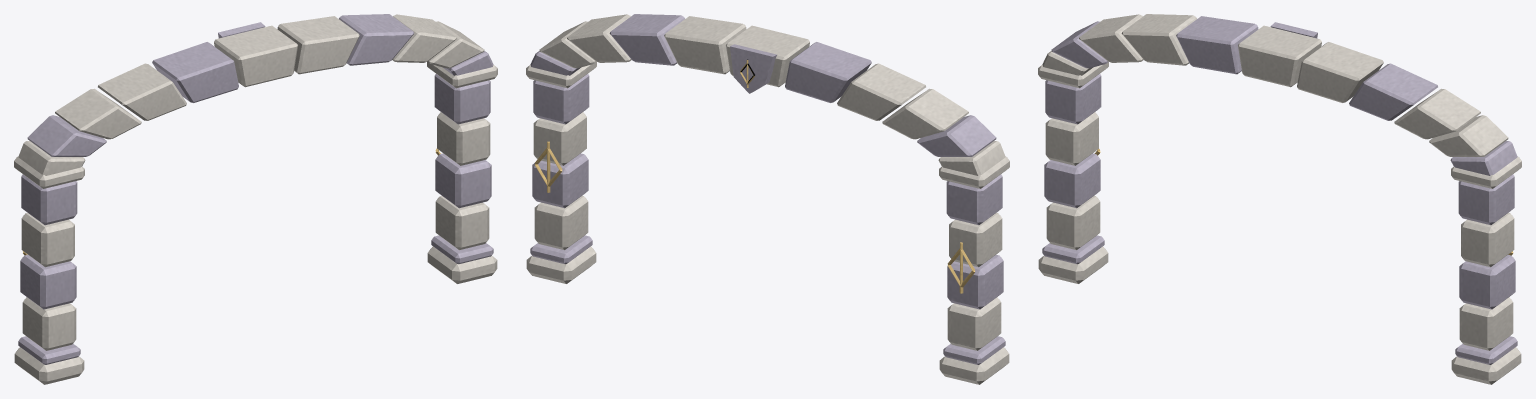
File: spawn_arch.glb
3 renders of one model, left to right at view 1: azimuth 30°, elevation 25°; view 2: azimuth 150°, elevation 25°; view 3: azimuth 330°, elevation 25°, orthographic.
Visible parts, largest first — view 1: ArchWedge.005, ArchWedge.006, ArchWedge.004, ArchWedge.007, ArchWedge.003, ArchWedge.008, HandCutPier.005, HandCutPier.001, HandCutPier.004, HandCutPier.002, HandCutPier, HandCutPier.006 (+13 smaller); view 2: ArchWedge.006, ArchWedge.004, ArchWedge.007, ArchWedge.003, ArchWedge.008, HandCutPier.004, HandCutPier, HandCutPier.001, HandCutPier.005, ArchWedge.005, HandCutPier.002, HandCutPier.003 (+14 smaller); view 3: ArchWedge.005, ArchWedge.004, ArchWedge.006, ArchWedge.003, ArchWedge.007, ArchWedge.002, HandCutPier.001, HandCutPier.005, HandCutPier, HandCutPier.006, HandCutPier.004, HandCutPier.002 (+13 smaller).
Part boxes in pixels (box(x1,y1,x2,y2)): ArchWedge.005: box(214, 25, 297, 87); ArchWedge.006: box(152, 42, 238, 102); ArchWedge.004: box(277, 16, 359, 74); ArchWedge.007: box(98, 63, 186, 120); ArchWedge.003: box(339, 14, 414, 65); ArchWedge.008: box(55, 88, 141, 139); HandCutPier.005: box(435, 153, 491, 208); HandCutPier.001: box(20, 254, 76, 309); HandCutPier.004: box(435, 195, 489, 250); HandCutPier.002: box(21, 213, 74, 267); HandCutPier: box(22, 297, 76, 350); HandCutPier.006: box(437, 112, 490, 165); ArchWedge.006: box(785, 42, 871, 102); ArchWedge.004: box(664, 16, 746, 74); ArchWedge.007: box(837, 63, 925, 120); ArchWedge.003: box(609, 14, 684, 65); ArchWedge.008: box(882, 88, 968, 139); HandCutPier.004: box(534, 195, 588, 250); HandCutPier: box(947, 297, 1001, 350); HandCutPier.001: box(947, 254, 1003, 309); HandCutPier.005: box(532, 153, 588, 208); ArchWedge.005: box(726, 25, 809, 87); HandCutPier.002: box(949, 213, 1002, 267); HandCutPier.003: box(946, 174, 1002, 225); ArchWedge.005: box(1238, 25, 1321, 87); ArchWedge.004: box(1297, 42, 1383, 102); ArchWedge.006: box(1176, 16, 1258, 74); ArchWedge.003: box(1349, 63, 1437, 120); ArchWedge.007: box(1121, 14, 1196, 65); ArchWedge.002: box(1394, 88, 1480, 139); HandCutPier.001: box(1044, 153, 1100, 208); HandCutPier.005: box(1459, 254, 1515, 309); HandCutPier: box(1046, 195, 1100, 250); HandCutPier.006: box(1461, 213, 1514, 267); HandCutPier.004: box(1459, 297, 1513, 350); HandCutPier.002: box(1045, 112, 1098, 165).
Bounding box in the file's own units: 8.5 × 5 × 1.16.
Materials: 3 (3 with a texture image).
